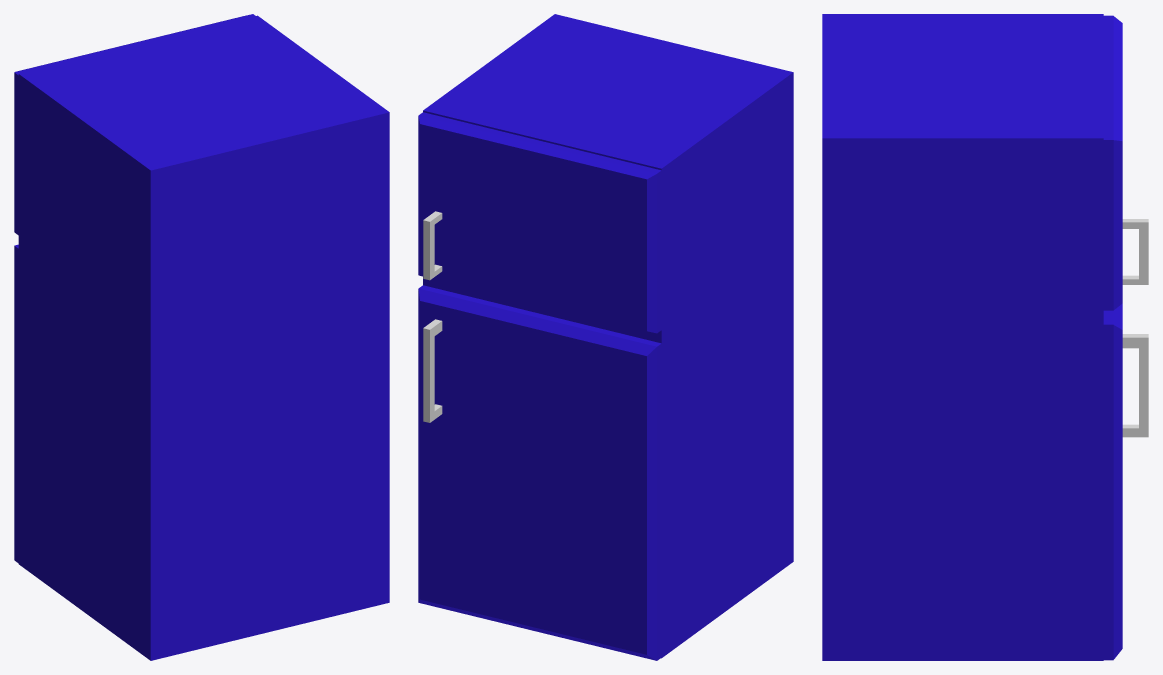
The model's file is Fridge 2.fbx.
The picture shows the model from 3 angles, left to right: view 1: azimuth 30°, elevation 25°; view 2: azimuth 150°, elevation 25°; view 3: azimuth 270°, elevation 25°; orthographic projection. The views are drawn at different scales.
Visible parts, largest first — view 1: Cube; view 2: Cube; view 3: Cube.
Part boxes in pixels (x1,y1,x2,y2): Cube: (14, 14, 389, 660); Cube: (418, 14, 793, 660); Cube: (822, 14, 1148, 660).
Bounding box in the file's own units: 159 × 312 × 176.
